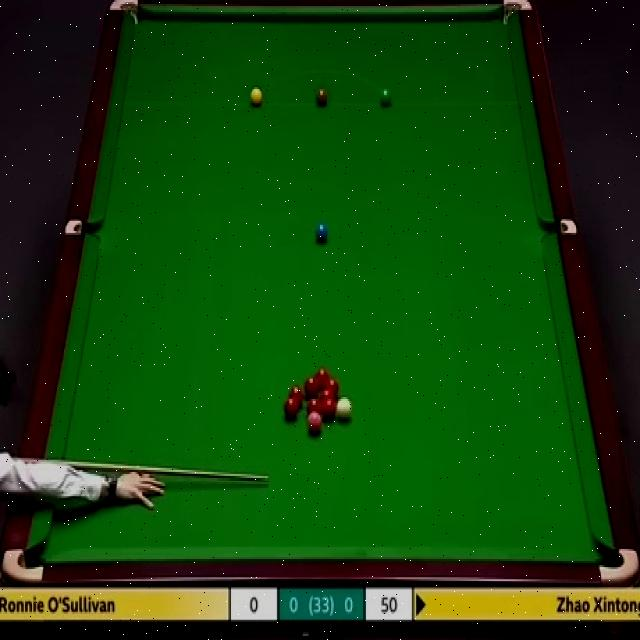blue-ball: (314, 220, 329, 245)
brown-ball: (315, 88, 329, 109)
green-ball: (380, 87, 394, 109)
pink-ball: (306, 410, 324, 435)
red-ball: (285, 394, 302, 417), (313, 366, 329, 387), (304, 376, 319, 397), (290, 385, 304, 406), (322, 399, 336, 420), (307, 399, 323, 417), (324, 378, 340, 393), (320, 388, 336, 399)
white-ball: (334, 395, 352, 424)
yellow-ball: (249, 86, 263, 108)
